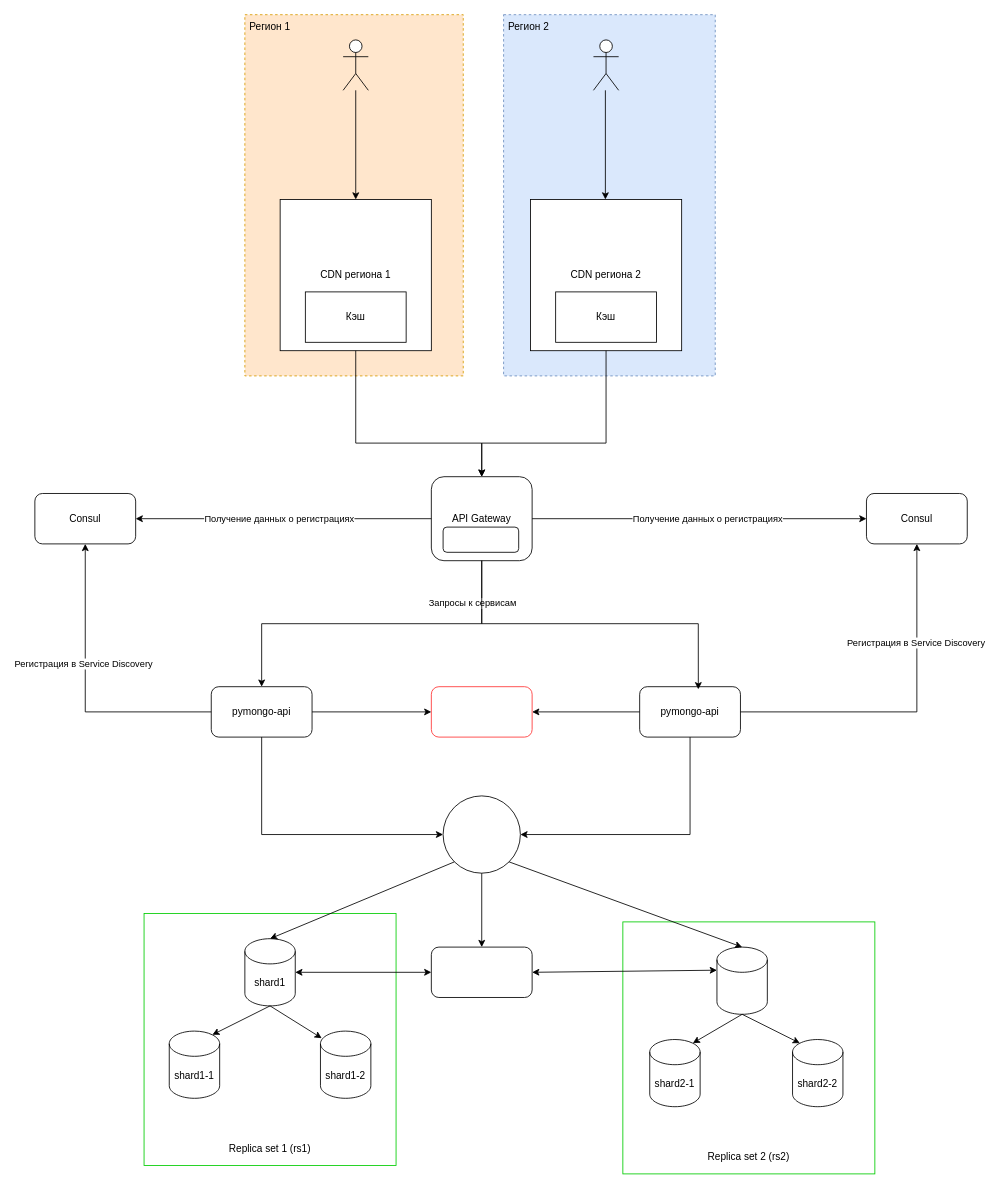
Some shapes in this 999 by 1189 pixel diagram are drawn without their labels. Each missing label, with the centre of its shape:
"configSrv" goes at (481,972).
"Consul_kv" goes at (480,539).
"mongos_router" goes at (481,834).
"redis" goes at (481,711).
"shard2" goes at (741,980).
"Пользователь региона 1" goes at (355,64).
"Пользователь региона 2" goes at (606,64).
